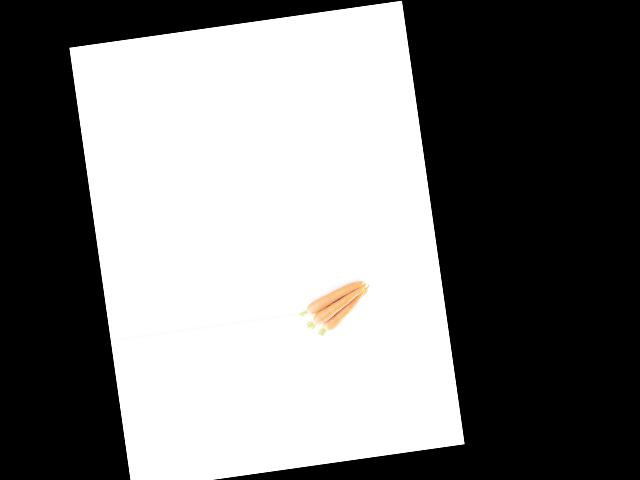carrot: (305, 281, 366, 316)
